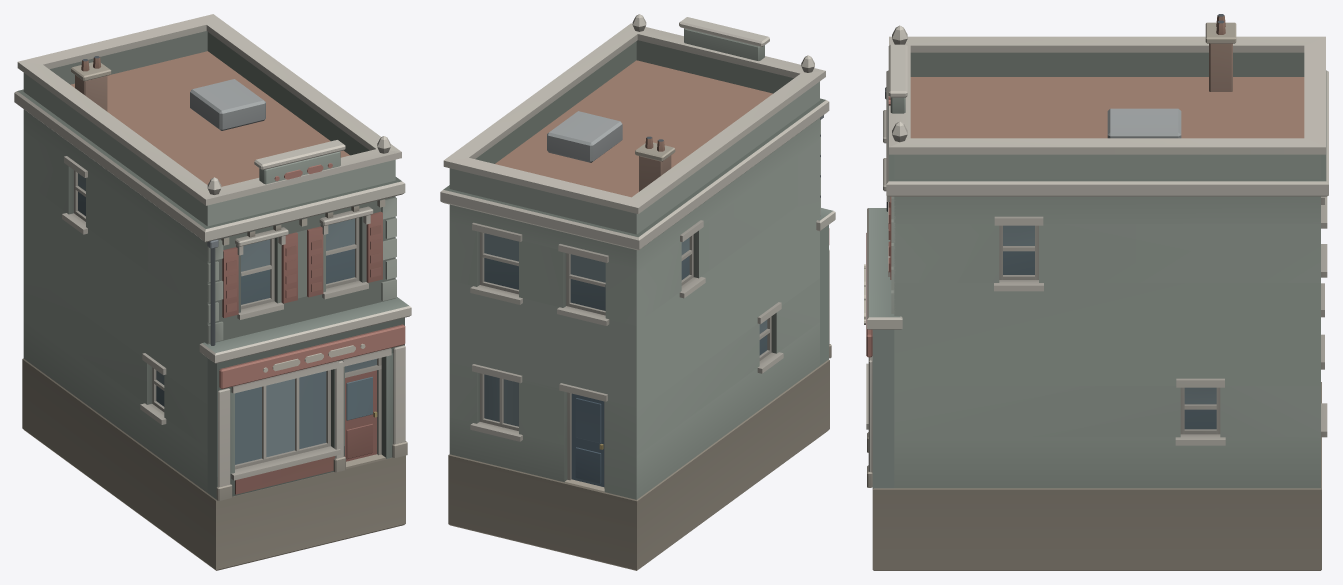
File: terrace_b.glb
3 views of the same model, side by side, from view 1: azimuth 30°, elevation 25°; view 2: azimuth 150°, elevation 25°; view 3: azimuth 270°, elevation 25° (orthographic). The views are drawn at different scales.
Size of the model in its own units: 4.72 by 8.94 by 8.19.
